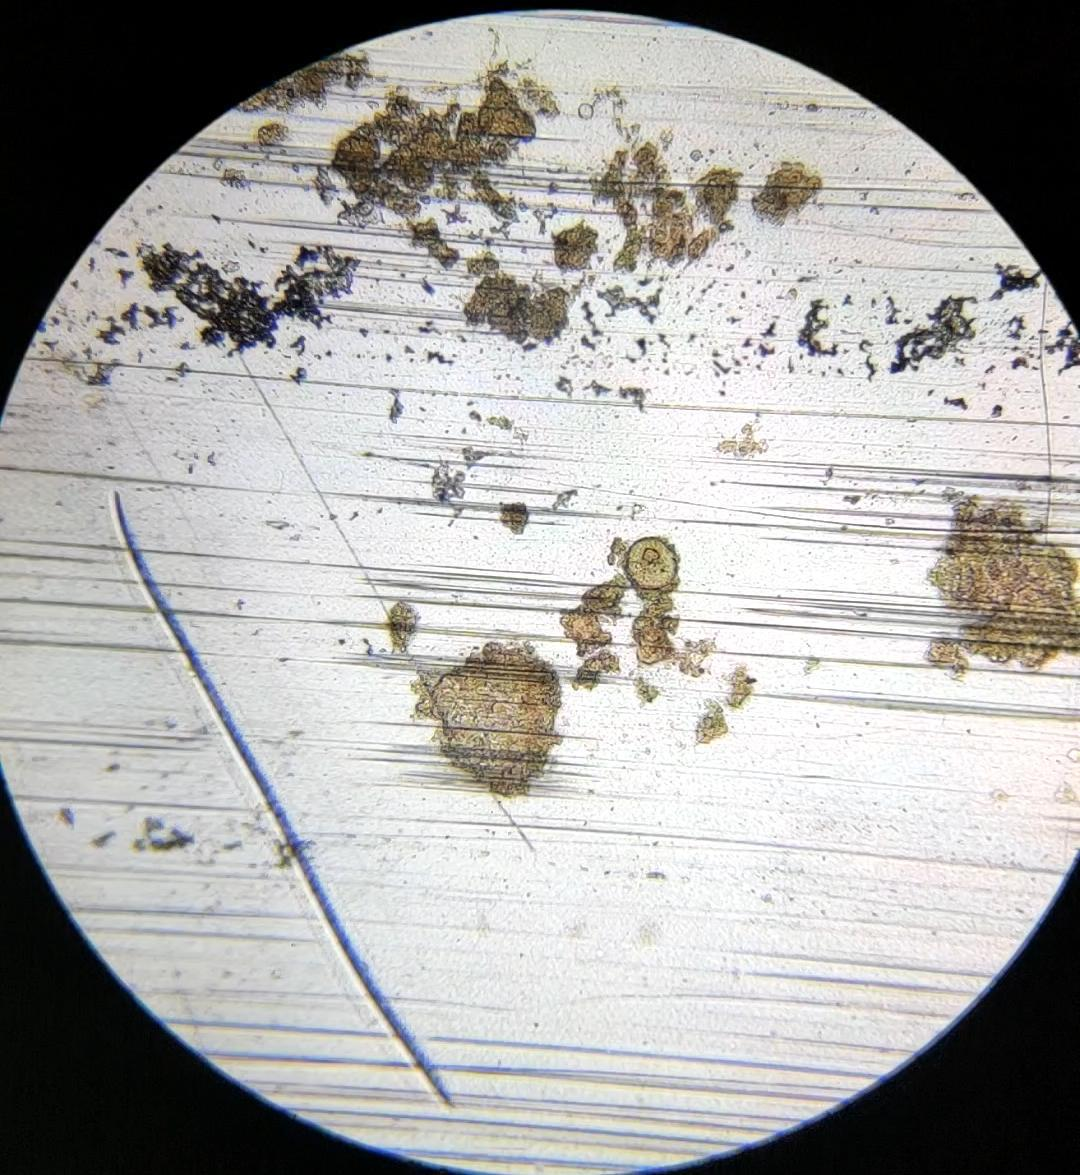Arcella: (627, 539, 676, 589)
